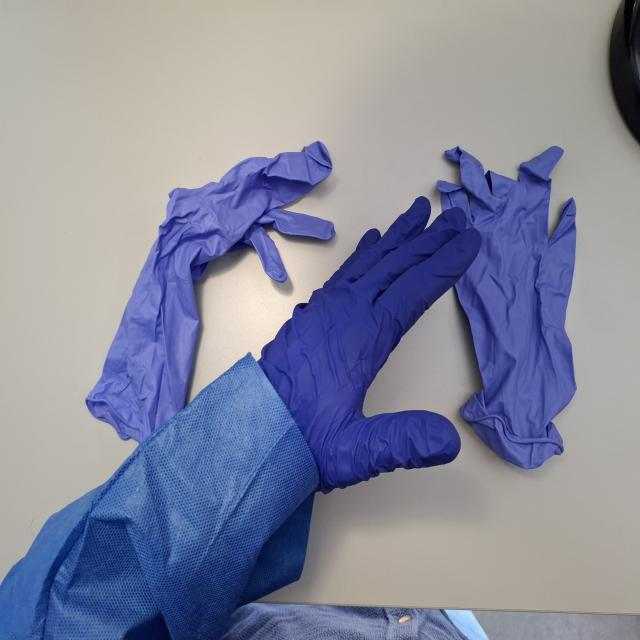glove_on: (249, 193, 484, 497)
